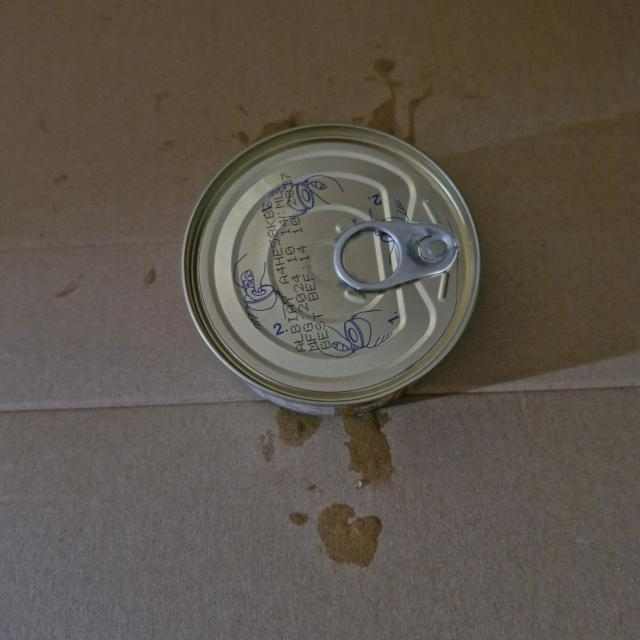metal: (173, 111, 497, 425)
